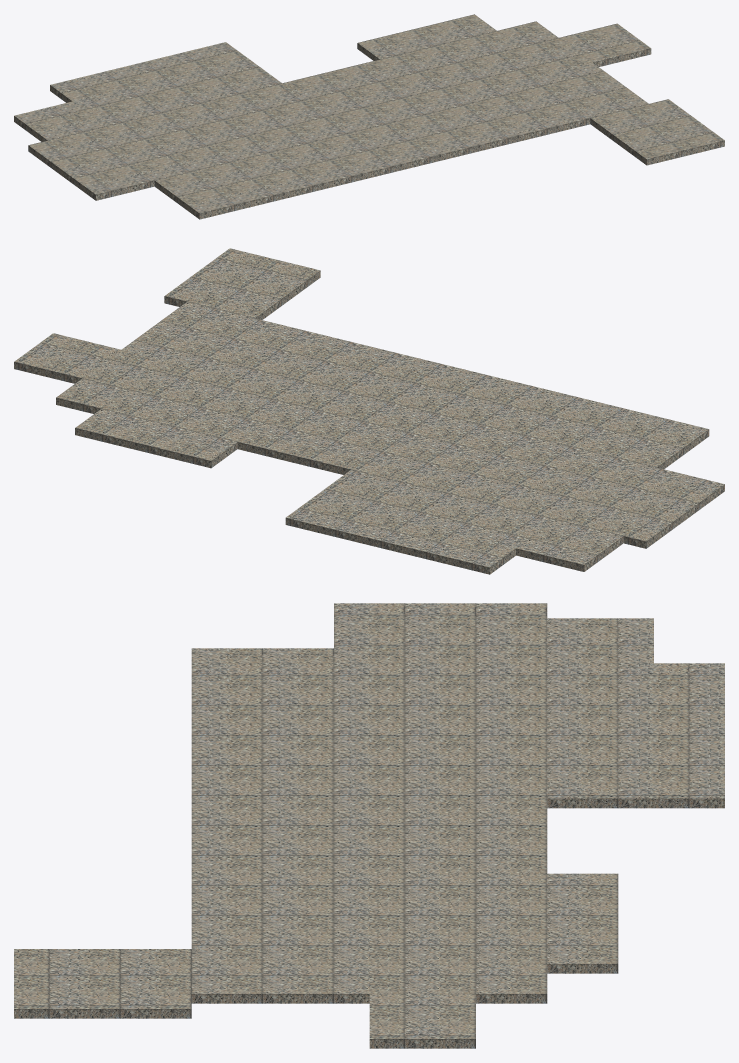
File: Lobby_Floor.obj
3 renders of one model, top to bottom at view 1: azimuth 30°, elevation 25°; view 2: azimuth 150°, elevation 25°; view 3: azimuth 270°, elevation 25°, orthographic. The views are drawn at different scales.
Visible parts, largest first — view 1: Lobby_Floor; view 2: Lobby_Floor; view 3: Lobby_Floor.
Part boxes in pixels (x1=…): Lobby_Floor: x1=14, y1=14, x2=724, y2=219; Lobby_Floor: x1=14, y1=248, x2=724, y2=574; Lobby_Floor: x1=14, y1=603, x2=724, y2=1048.
Bounding box in the file's own units: 14.5 × 0.15 × 10.
1 material, 1 textured.
